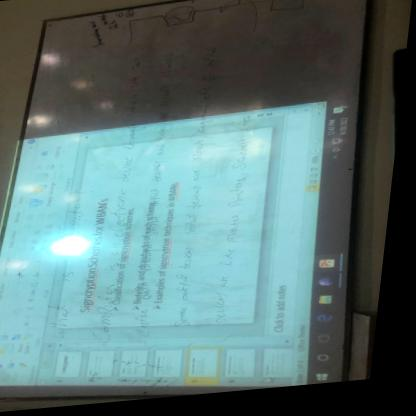Handwritten text: (170, 42, 239, 337), (94, 53, 154, 352), (134, 50, 188, 344), (209, 113, 263, 334), (51, 191, 97, 345), (90, 371, 193, 399)
Whiteboard: (0, 0, 369, 399)
